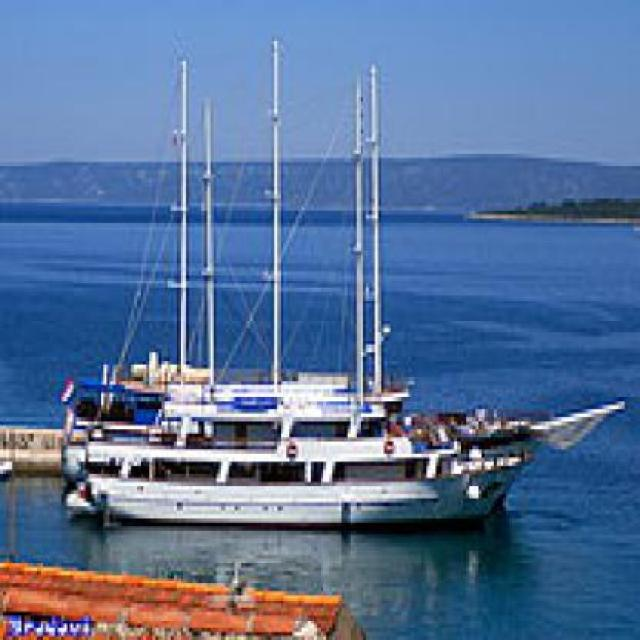cruise: (34, 346, 546, 532)
